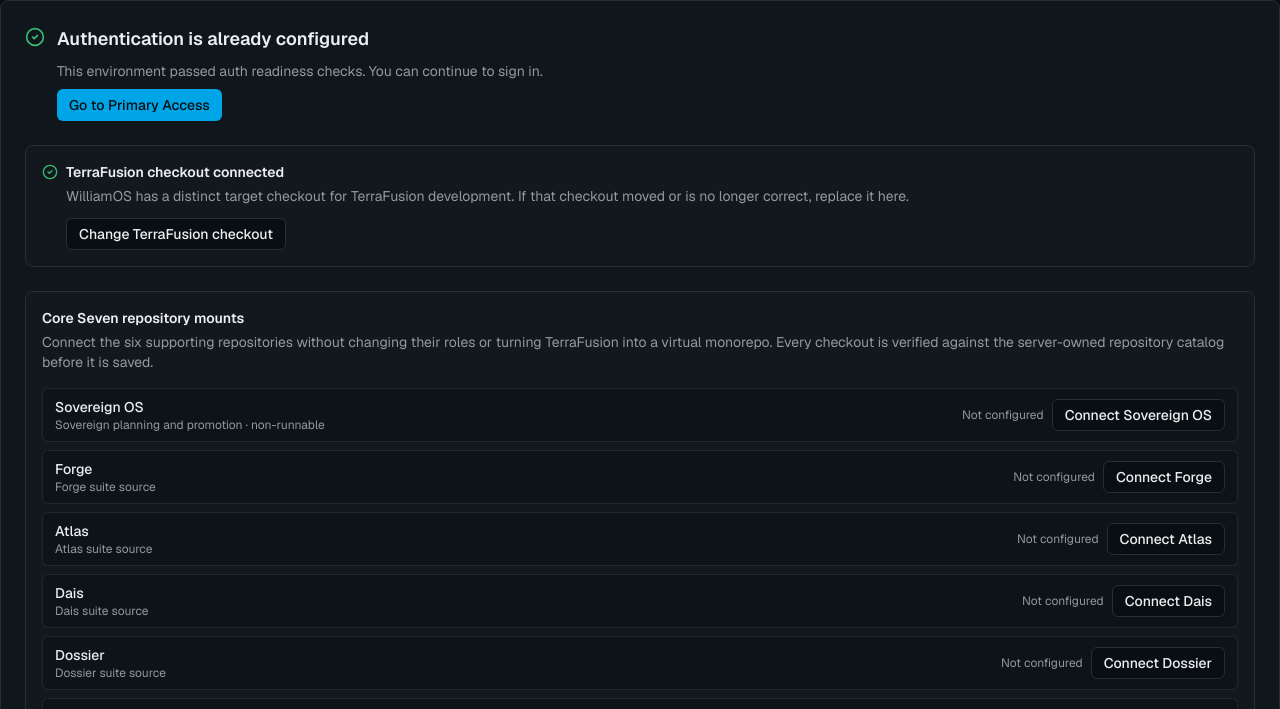
auth-ready TerraFusion checkout setup › lets an auth-ready owner replace a configured checkout that moved or became stale
The image size is (1280, 709).
Expected: the heading "TerraFusion checkout connected" is shown, top-left (66, 163), bottom-right (284, 181)
Click the button "Change TerraFusion checkout" at coordinates (176, 234), box top-left (66, 218), bottom-right (286, 250)
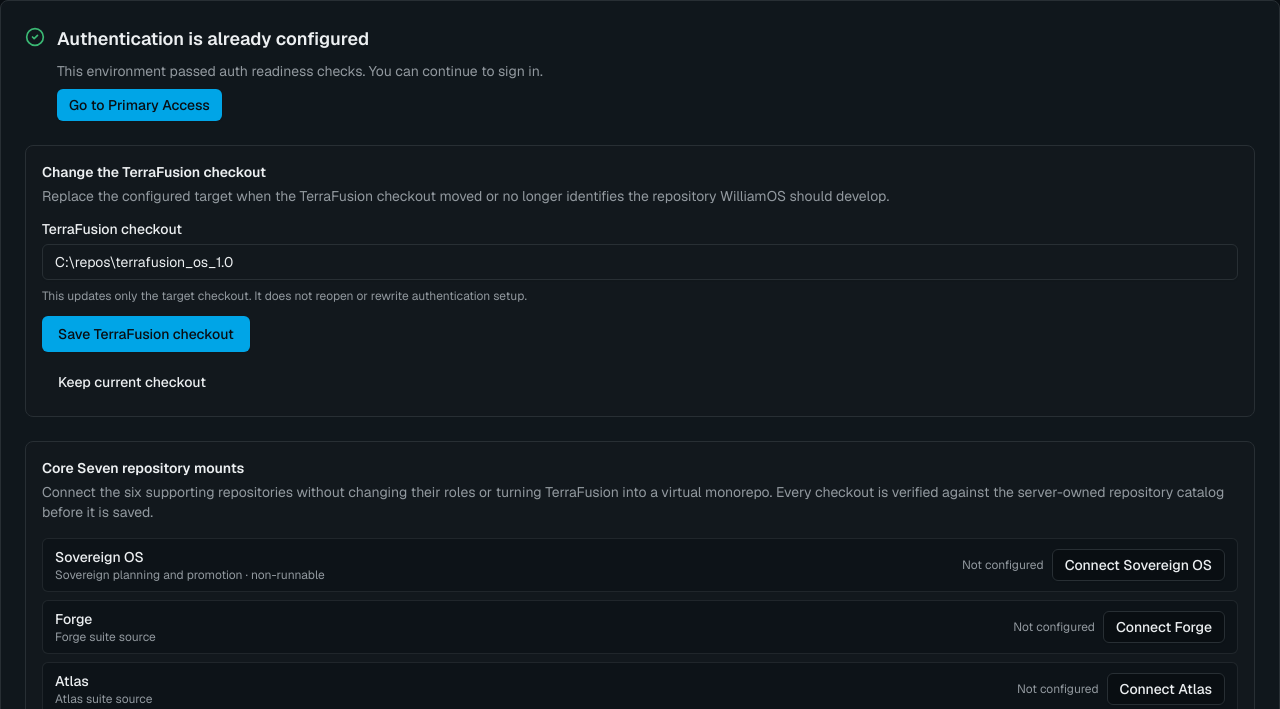
Now the heading "Change the TerraFusion checkout" is shown, box top-left (42, 163), bottom-right (266, 181)
Now the field labelled "TerraFusion checkout" holds "C:\\repos\\terrafusion_os_1.0", box top-left (42, 244), bottom-right (1238, 280)
Now the button "Save TerraFusion checkout" is shown, box top-left (42, 316), bottom-right (250, 352)
